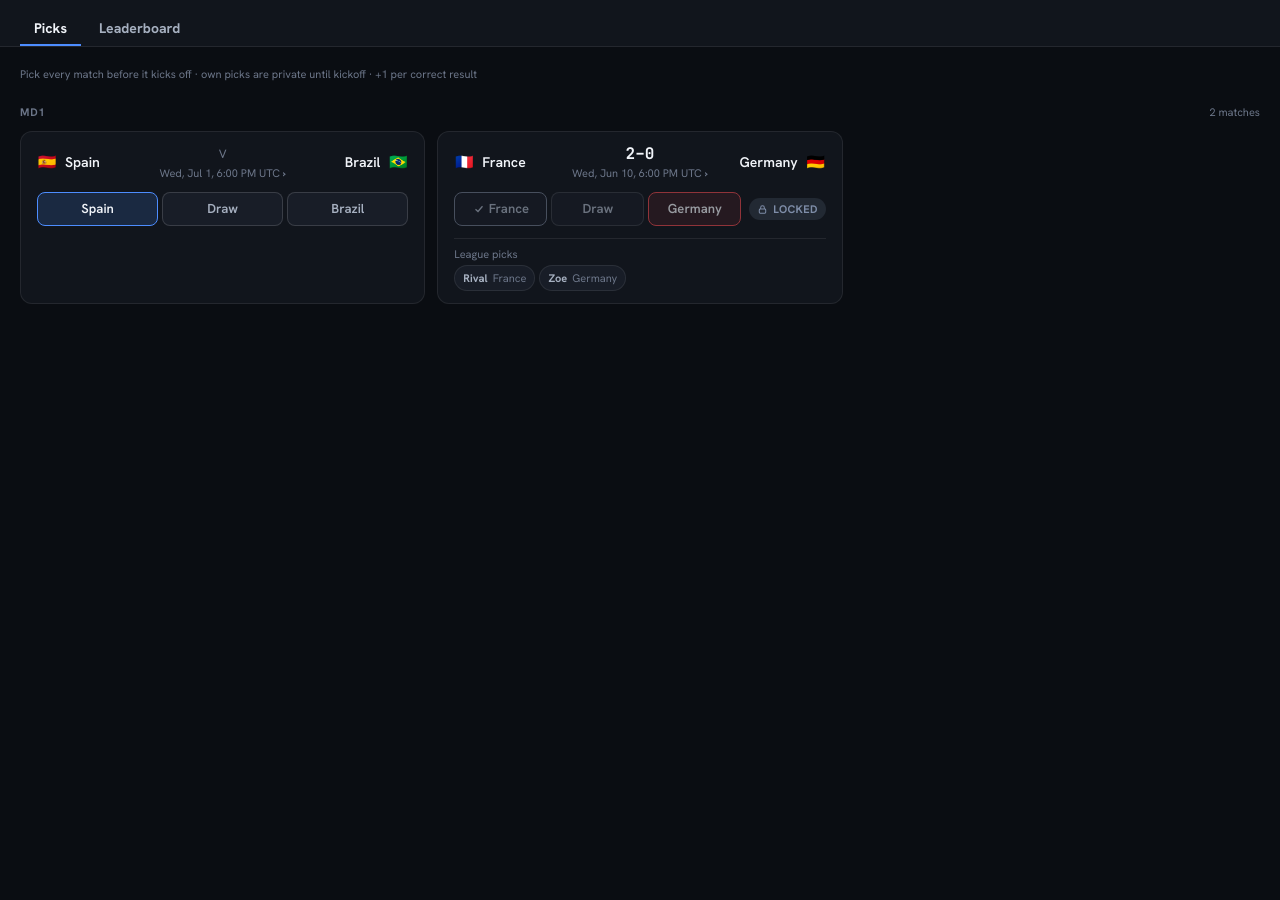
it: leaderboard → manager picks drill-in (T4) › clicking yourself DOES surface your own pre-kickoff pick (own picks are always revealable)
Click the tab "Leaderboard" at (140, 29), box [85,12,194,46]
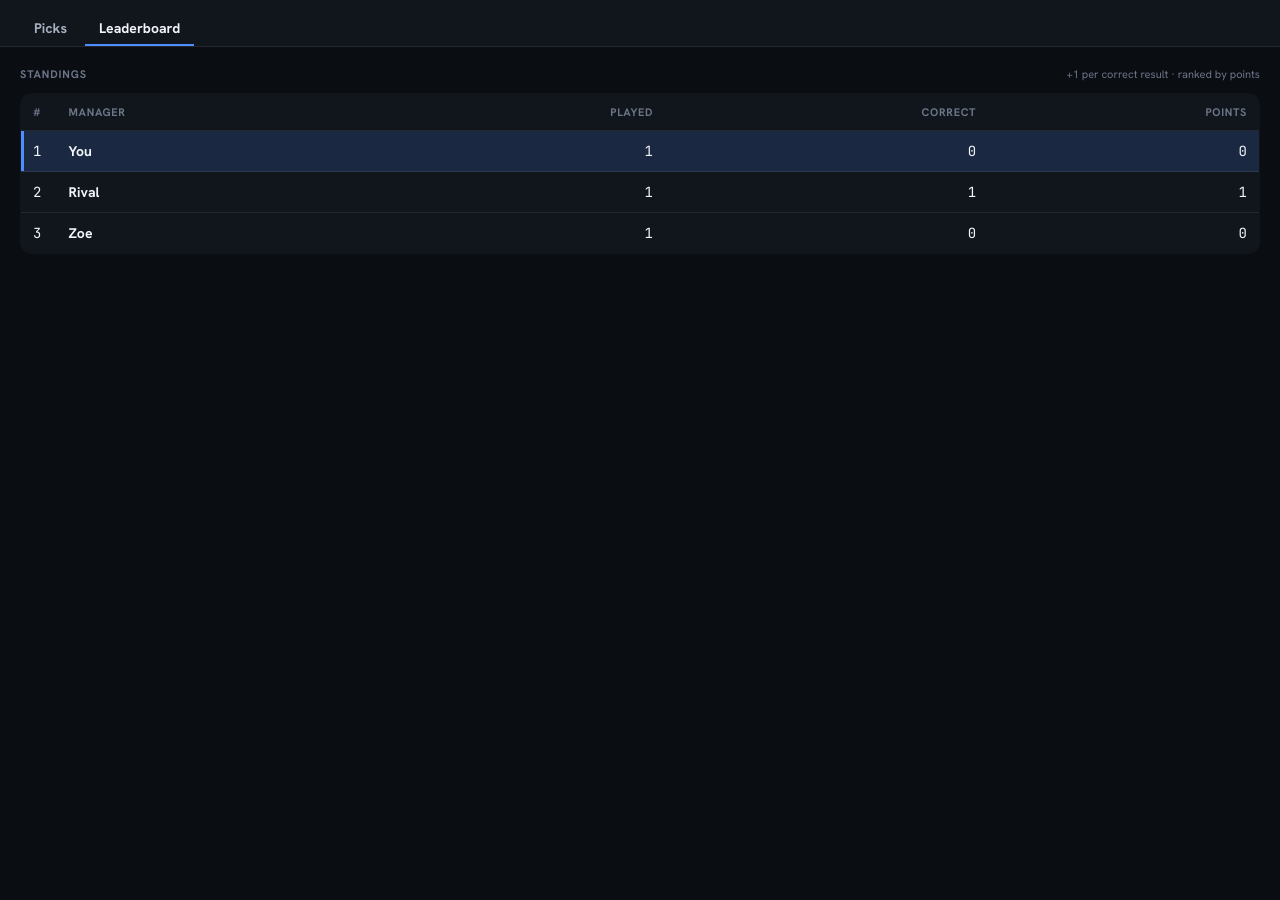
Click the button "You" at (80, 151), box [68,141,92,161]
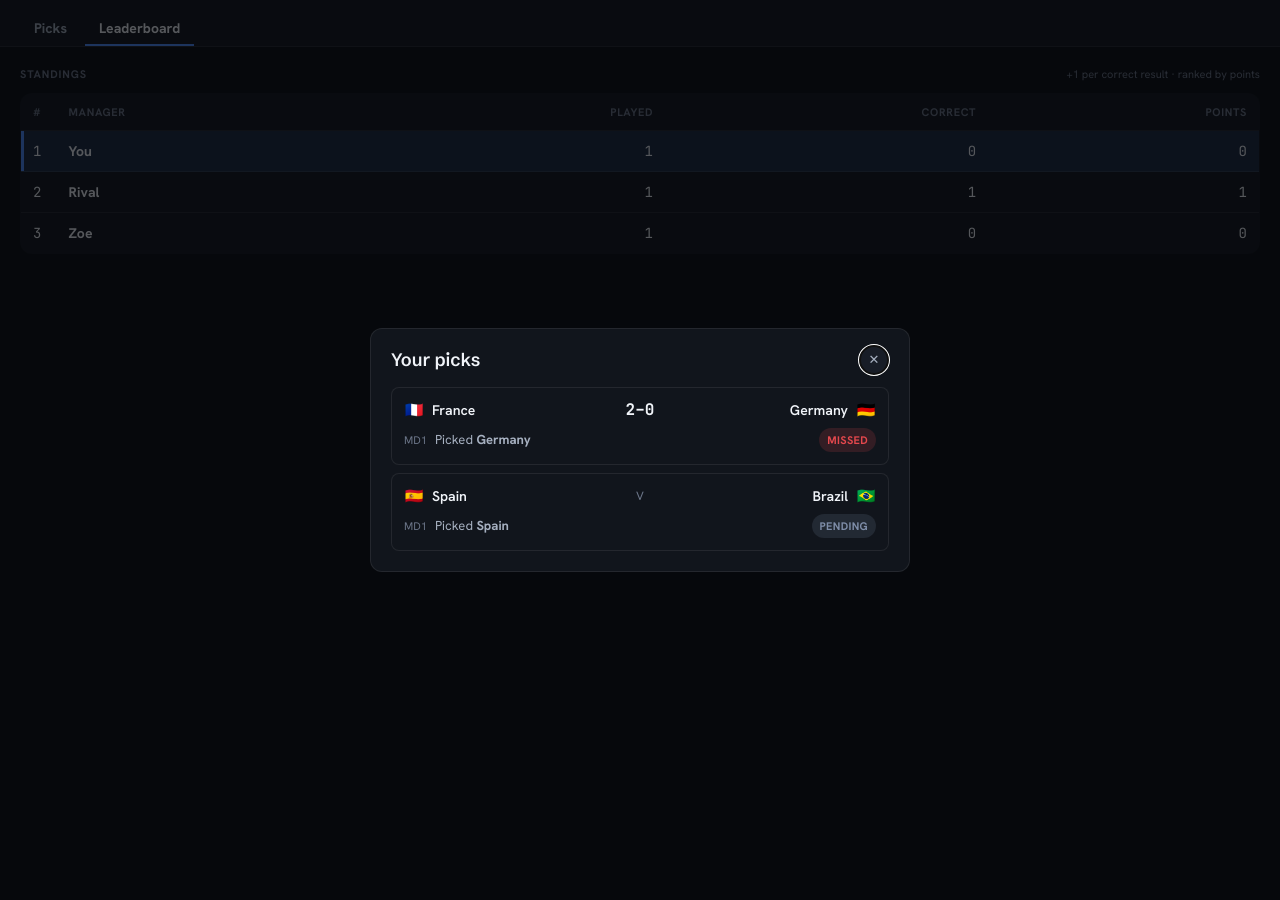
Expected: the text "Your picks" is shown, [391,348,480,372]
Expected: the text "Spain" in the row of "Brazil" is shown, [432,487,467,505]
Expected: the text "Germany" in the row of "France" is shown, [790,401,848,419]
